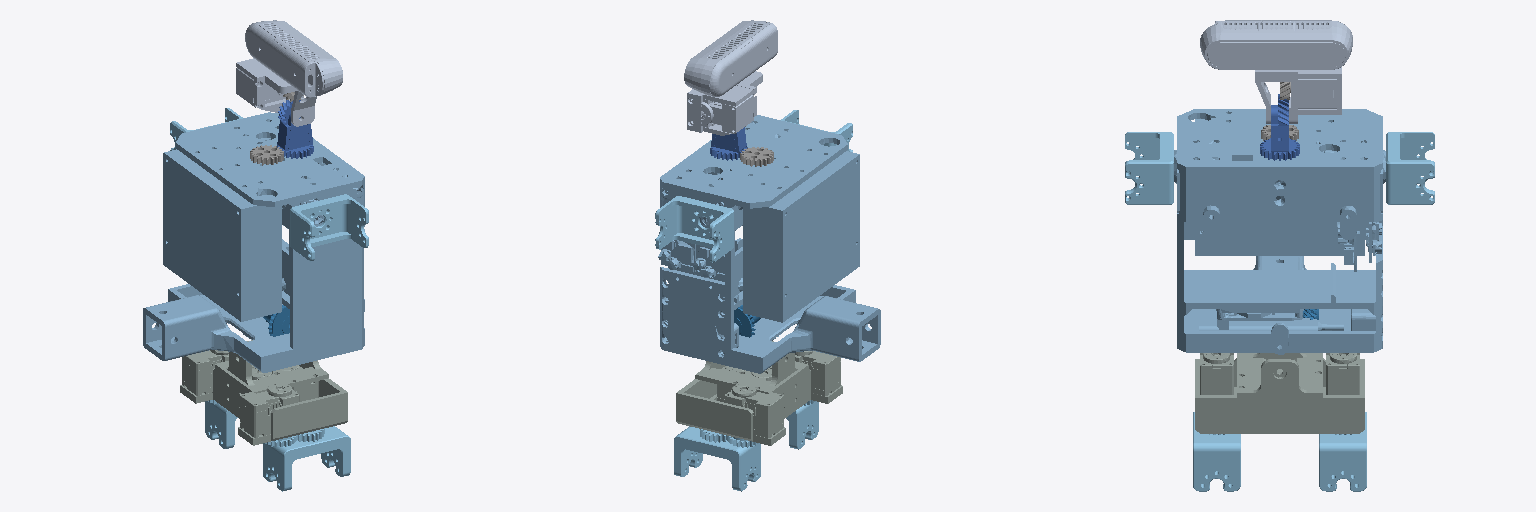
robot.urdf — toddlerbot:
<?xml version="1.0" ?><robot name="toddlerbot">  
  <link name="torso">    
    <visual>      
      <origin xyz="0 0 0" rpy="0 -0 0"/>      
      <geometry>        
        <mesh filename="package:///meshes/torso_visual.stl"/>        
      </geometry>      
      <material name="torso_material">        
        <color rgba="0.58593977560074728128 0.73200332251165178832 0.84622153029708702121 1.0"/>        
      </material>      
    </visual>    
    <collision>      
      <origin xyz="0 0 0" rpy="0 -0 0"/>      
      <geometry>        
        <mesh filename="package:///meshes/torso_collision.stl"/>        
      </geometry>      
    </collision>    
    <inertial>      
      <origin xyz="-0.0074402562279124312417 0.0025066622175970347877 0.07243445560768882463" rpy="0 0 0"/>      
      <mass value="0.58475267652546303321"/>      
      <inertia ixx="0.0016161156662577464554" ixy="-1.474745924858701948e-05" ixz="3.3560094571361662986e-07" iyy="0.0013094545225363026821" iyz="2.4218994132079873523e-05" izz="0.0011897783104580597104"/>      
    </inertial>    
  </link>  

  <link name="spur_1m_20t">    
    <visual>      
      <origin xyz="0 0 0" rpy="0 -0 0"/>      
      <geometry>        
        <mesh filename="package:///meshes/spur_1m_20t_visual.stl"/>        
      </geometry>      
      <material name="spur_1m_20t_material">        
        <color rgba="0.64705882352941179736 0.64705882352941179736 0.64705882352941179736 1.0"/>        
      </material>      
    </visual>    
    <collision>      
      <origin xyz="0 0 0" rpy="0 -0 0"/>      
      <geometry>        
        <mesh filename="package:///meshes/spur_1m_20t_collision.stl"/>        
      </geometry>      
    </collision>    
    <inertial>      
      <origin xyz="-2.9678192710719268851e-18 -7.2909235904444700427e-18 0.0033745971730663282089" rpy="0 0 0"/>      
      <mass value="0.0015534950290892286448"/>      
      <inertia ixx="4.4726508287871812856e-08" ixy="5.898867711257843534e-24" ixz="-1.4055384018007298852e-37" iyy="4.4726508287871759916e-08" iyz="-4.7306831784492834109e-38" izz="7.9558906764902019844e-08"/>      
    </inertial>    
  </link>  

  <joint name="neck_yaw_drive" type="revolute">    
    <origin xyz="-0.0050000000000043915566 2.1780059937422389857e-15 0.12148651076282247774" rpy="-4.6722658561527960149e-15 -3.0241828739332580702e-14 3.0478935990547233347e-14"/>    
    <parent link="torso"/>    
    <child link="spur_1m_20t"/>    
    <axis xyz="0 0 1"/>    
    <limit effort="1" velocity="20" lower="-2.2689280275926284602" upper="2.2689280275926284602"/>    
    <joint_properties friction="0.0"/>    
  </joint>  

  <link name="neck_yaw_link">    
    <visual>      
      <origin xyz="0 0 0" rpy="0 -0 0"/>      
      <geometry>        
        <mesh filename="package:///meshes/neck_yaw_link_visual.stl"/>        
      </geometry>      
      <material name="neck_yaw_link_material">        
        <color rgba="0.33636252417476658616 0.48680769190259876034 0.74976123534949790095 1.0"/>        
      </material>      
    </visual>    
    <collision>      
      <origin xyz="0 0 0" rpy="0 -0 0"/>      
      <geometry>        
        <mesh filename="package:///meshes/neck_yaw_link_collision.stl"/>        
      </geometry>      
    </collision>    
    <inertial>      
      <origin xyz="2.7291286460607713451e-05 -0.00019798992283530673832 0.011527412037194864278" rpy="0 0 0"/>      
      <mass value="0.0085168305947458285143"/>      
      <inertia ixx="1.0407116999274153436e-06" ixy="2.421015046618271679e-11" ixz="-4.7246803216679303407e-10" iyy="1.1240009954110310649e-06" iyz="3.0834841754636015976e-08" izz="3.1587565167291864821e-07"/>      
    </inertial>    
  </link>  

  <link name="neck_pitch_link">    
    <visual>      
      <origin xyz="0 0 0" rpy="0 -0 0"/>      
      <geometry>        
        <mesh filename="package:///meshes/neck_pitch_link_visual.stl"/>        
      </geometry>      
      <material name="neck_pitch_link_material">        
        <color rgba="0.74911126277760042846 0.80002799398726853752 0.87441258869524285391 1.0"/>        
      </material>      
    </visual>    
    <collision>      
      <origin xyz="0 0 0" rpy="0 -0 0"/>      
      <geometry>        
        <mesh filename="package:///meshes/neck_pitch_link_collision.stl"/>        
      </geometry>      
    </collision>    
    <inertial>      
      <origin xyz="-0.003437049761572200015 0.032876793988991251383 -0.00036476492134670401466" rpy="0 0 0"/>      
      <mass value="0.11211553874797881847"/>      
      <inertia ixx="7.70157554598498086e-05" ixy="-2.1757968319829864274e-06" ixz="-2.8732209413525655209e-06" iyy="6.3502636688154214277e-05" iyz="-1.2492352737635124786e-05" izz="2.8610002383976241419e-05"/>      
    </inertial>    
  </link>  

  <link name="spur_gear_(13_teeth)">    
    <visual>      
      <origin xyz="0 0 0" rpy="0 -0 0"/>      
      <geometry>        
        <mesh filename="package:///meshes/spur_gear_(13_teeth)_visual.stl"/>        
      </geometry>      
      <material name="spur_gear_(13_teeth)_material">        
        <color rgba="0.64705882352941179736 0.64705882352941179736 0.64705882352941179736 1.0"/>        
      </material>      
    </visual>    
    <collision>      
      <origin xyz="0 0 0" rpy="0 -0 0"/>      
      <geometry>        
        <mesh filename="package:///meshes/spur_gear_(13_teeth)_collision.stl"/>        
      </geometry>      
    </collision>    
    <inertial>      
      <origin xyz="9.1521557942323573101e-10 -5.4872578735152555475e-10 0.0092751511485596373902" rpy="0 0 0"/>      
      <mass value="0.00081469437497230865874"/>      
      <inertia ixx="2.0244841463618384181e-08" ixy="2.9781775006960639087e-15" ixz="-8.2976066070018727639e-15" iyy="2.0244839778533685891e-08" iyz="1.3142117784831662071e-15" izz="1.8905472907863310999e-08"/>      
    </inertial>    
  </link>  

  <joint name="neck_pitch_drive" type="revolute">    
    <origin xyz="-1.7971735211119721498e-15 0.015649999999999192335 -0.008799999999996657718" rpy="-9.1684649781985877855e-16 7.2823649231784177849e-17 -1.5707963267948912289"/>    
    <parent link="neck_pitch_link"/>    
    <child link="spur_gear_(13_teeth)"/>    
    <axis xyz="0 0 1"/>    
    <limit effort="1" velocity="20" lower="-1.4279966607226330932" upper="1.4279966607226330932"/>    
    <joint_properties friction="0.0"/>    
  </joint>  

  <joint name="neck_pitch_driven" type="revolute">    
    <origin xyz="3.7499998592482874926e-10 -0.0051500000614754029571 0.027499999999999941158" rpy="1.570796326794896336 8.6610484296623782615e-16 3.1415926535897926719"/>    
    <parent link="neck_yaw_link"/>    
    <child link="neck_pitch_link"/>    
    <axis xyz="0 0 1"/>    
    <limit effort="1" velocity="20" lower="-1.570796326794896558" upper="1.570796326794896558"/>    
    <joint_properties friction="0.0"/>    
  </joint>  

  <joint name="neck_yaw_driven" type="revolute">    
    <origin xyz="0.015999999999998633371 3.2287696509065600056e-15 0.12248651076282091044" rpy="2.3436576345318096491e-14 3.3282183470283369239e-14 -3.1415926535897926719"/>    
    <parent link="torso"/>    
    <child link="neck_yaw_link"/>    
    <axis xyz="0 0 1"/>    
    <limit effort="1" velocity="20" lower="-3.141592653589793116" upper="3.141592653589793116"/>    
    <joint_properties friction="0.0"/>    
  </joint>  

  <link name="waist_gears">    
    <visual>      
      <origin xyz="0 0 0" rpy="0 -0 0"/>      
      <geometry>        
        <mesh filename="package:///meshes/waist_gears_visual.stl"/>        
      </geometry>      
      <material name="waist_gears_material">        
        <color rgba="0.2632766275256509525 0.51746399844275281499 0.70128653634567073016 1.0"/>        
      </material>      
    </visual>    
    <collision>      
      <origin xyz="0 0 0" rpy="0 -0 0"/>      
      <geometry>        
        <mesh filename="package:///meshes/waist_gears_collision.stl"/>        
      </geometry>      
    </collision>    
    <inertial>      
      <origin xyz="-2.968876492998927051e-07 5.6464343502689201109e-08 -0.012588230079602458905" rpy="0 0 0"/>      
      <mass value="0.025809950030454161668"/>      
      <inertia ixx="1.5121316248348977609e-06" ixy="1.8766601005581730155e-11" ixz="4.0584247103936108173e-10" iyy="7.2540386700465116487e-06" iyz="3.1280091563205133452e-12" izz="6.9379699728509380057e-06"/>      
    </inertial>    
  </link>  

  <link name="waist_link">    
    <visual>      
      <origin xyz="0 0 0" rpy="0 -0 0"/>      
      <geometry>        
        <mesh filename="package:///meshes/waist_link_visual.stl"/>        
      </geometry>      
      <material name="waist_link_material">        
        <color rgba="0.6341178154858730931 0.68176322249315746138 0.66892316089122350053 1.0"/>        
      </material>      
    </visual>    
    <collision>      
      <origin xyz="0 0 0" rpy="0 -0 0"/>      
      <geometry>        
        <mesh filename="package:///meshes/waist_link_collision.stl"/>        
      </geometry>      
    </collision>    
    <inertial>      
      <origin xyz="-9.0347036015879724889e-07 0.026095270919262961162 -0.030130047301118945829" rpy="0 0 0"/>      
      <mass value="0.16767948617484731977"/>      
      <inertia ixx="6.9102611966451489025e-05" ixy="-5.9672595151003787181e-10" ixz="-3.6786883474394307472e-06" iyy="0.00020080820223840280172" iyz="-3.5903589490715789653e-06" izz="0.00015797022372487427269"/>      
    </inertial>    
  </link>  

  <link name="spur_gear_19_teeth">    
    <visual>      
      <origin xyz="0 0 0" rpy="0 -0 0"/>      
      <geometry>        
        <mesh filename="package:///meshes/spur_gear_19_teeth_visual.stl"/>        
      </geometry>      
      <material name="spur_gear_19_teeth_material">        
        <color rgba="0.61568627450980395466 0.81176470588235294379 0.92941176470588238168 1.0"/>        
      </material>      
    </visual>    
    <collision>      
      <origin xyz="0 0 0" rpy="0 -0 0"/>      
      <geometry>        
        <mesh filename="package:///meshes/spur_gear_19_teeth_collision.stl"/>        
      </geometry>      
    </collision>    
    <inertial>      
      <origin xyz="-4.9968063137826185009e-09 -7.9242214131433856263e-11 0.0045295192537419867035" rpy="0 0 0"/>      
      <mass value="0.0010993711450650535313"/>      
      <inertia ixx="2.9215018435433078735e-08" ixy="2.5903313826161381487e-16" ixz="8.5599808499104664123e-15" iyy="2.9215021540034071703e-08" iyz="1.1526881384966657422e-16" izz="4.5709977027671355031e-08"/>      
    </inertial>    
  </link>  

  <joint name="left_hip_yaw_drive" type="revolute">    
    <origin xyz="-0.036999999999998312017 0.037100000000006030931 -0.0395000000000006804" rpy="-1.5707963267949798247 -4.6304776107371661452e-13 -3.868919074001414487e-13"/>    
    <parent link="waist_link"/>    
    <child link="spur_gear_19_teeth"/>    
    <axis xyz="0 0 1"/>    
    <limit effort="1" velocity="20" lower="-1.4211966766239538806" upper="1.4211966766239538806"/>    
    <joint_properties friction="0.0"/>    
  </joint>  

  <link name="spur_gear_21_teeth">    
    <visual>      
      <origin xyz="0 0 0" rpy="0 -0 0"/>      
      <geometry>        
        <mesh filename="package:///meshes/spur_gear_21_teeth_visual.stl"/>        
      </geometry>      
      <material name="spur_gear_21_teeth_material">        
        <color rgba="0.61568627450980395466 0.81176470588235294379 0.92941176470588238168 1.0"/>        
      </material>      
    </visual>    
    <collision>      
      <origin xyz="0 0 0" rpy="0 -0 0"/>      
      <geometry>        
        <mesh filename="package:///meshes/spur_gear_21_teeth_collision.stl"/>        
      </geometry>      
    </collision>    
    <inertial>      
      <origin xyz="-4.7814841798942682476e-10 -1.2610156409555453111e-12 0.0024944618616143370698" rpy="0 0 0"/>      
      <mass value="0.0010063046528317974842"/>      
      <inertia ixx="3.1842855421068475048e-08" ixy="2.2030744720874237327e-39" ixz="-4.4935557363611089879e-38" iyy="3.1842855426953779079e-08" iyz="-6.7412745706619689465e-38" izz="5.9529380586728028132e-08"/>      
    </inertial>    
  </link>  

  <link name="left_leg_xm430">    
    <visual>      
      <origin xyz="0 0 0" rpy="0 -0 0"/>      
      <geometry>        
        <mesh filename="package:///meshes/left_leg_xm430_visual.stl"/>        
      </geometry>      
      <material name="left_leg_xm430_material">        
        <color rgba="0.61568627450980395466 0.81176470588235294379 0.92941176470588238168 1.0"/>        
      </material>      
    </visual>    
    <collision>      
      <origin xyz="0 0 0" rpy="0 -0 0"/>      
      <geometry>        
        <mesh filename="package:///meshes/left_leg_xm430_collision.stl"/>        
      </geometry>      
    </collision>    
    <inertial>      
      <origin xyz="-9.1960418512498486936e-19 -5.5625627936851733319e-19 -0.0098390489054829052135" rpy="0 0 0"/>      
      <mass value="0.017999999999999995171"/>      
      <inertia ixx="2.638503389144252815e-06" ixy="-4.2497782781222058568e-36" ixz="-1.8781255597560568713e-37" iyy="7.6596731957046856464e-06" iyz="1.1749924264563529118e-35" izz="7.7220708070894735956e-06"/>      
    </inertial>    
  </link>  

  <joint name="left_leg_fixed" type="fixed">    
    <origin xyz="-4.336808689942017736e-19 0 0.004999999999999997502" rpy="3.1415926535897851224 -1.1045608006607374766e-30 -4.2552910532817472121e-31"/>    
    <parent link="spur_gear_21_teeth"/>    
    <child link="left_leg_xm430"/>    
    <axis xyz="0 0 1"/>    
    <limit effort="1" velocity="20"/>    
    <joint_properties friction="0.0"/>    
  </joint>  

  <joint name="left_hip_yaw_driven" type="revolute">    
    <origin xyz="-0.037000000000000005107 0.041099999999999997646 -0.019499999999999979156" rpy="-1.5707963267948923392 -1.5707963267948932273 0"/>    
    <parent link="waist_link"/>    
    <child link="spur_gear_21_teeth"/>    
    <axis xyz="0 0 1"/>    
    <limit effort="1" velocity="20" lower="-1.570796326794896558" upper="1.570796326794896558"/>    
    <joint_properties friction="0.0"/>    
  </joint>  

  <link name="spur_gear_19_teeth_2">    
    <visual>      
      <origin xyz="0 0 0" rpy="0 -0 0"/>      
      <geometry>        
        <mesh filename="package:///meshes/spur_gear_19_teeth_2_visual.stl"/>        
      </geometry>      
      <material name="spur_gear_19_teeth_2_material">        
        <color rgba="0.61568627450980395466 0.81176470588235294379 0.92941176470588238168 1.0"/>        
      </material>      
    </visual>    
    <collision>      
      <origin xyz="0 0 0" rpy="0 -0 0"/>      
      <geometry>        
        <mesh filename="package:///meshes/spur_gear_19_teeth_2_collision.stl"/>        
      </geometry>      
    </collision>    
    <inertial>      
      <origin xyz="-4.996806306843724597e-09 -7.9242214131433752865e-11 0.0045295192537419936424" rpy="0 0 0"/>      
      <mass value="0.0010993711450650535313"/>      
      <inertia ixx="2.9215018435433078735e-08" ixy="2.5903313731374078717e-16" ixz="8.5599808499104664123e-15" iyy="2.9215021540034058468e-08" iyz="1.15268813849666377e-16" izz="4.5709977027671355031e-08"/>      
    </inertial>    
  </link>  

  <joint name="right_hip_yaw_drive" type="revolute">    
    <origin xyz="0.037000000000001607992 0.037100000000003560685 -0.039500000000000486111" rpy="-1.5707963267949798247 -4.6304330256338374643e-13 -3.8689190740014134773e-13"/>    
    <parent link="waist_link"/>    
    <child link="spur_gear_19_teeth_2"/>    
    <axis xyz="0 0 1"/>    
    <limit effort="1" velocity="20" lower="-1.4211966766239538806" upper="1.4211966766239538806"/>    
    <joint_properties friction="0.0"/>    
  </joint>  

  <link name="spur_gear_21_teeth_2">    
    <visual>      
      <origin xyz="0 0 0" rpy="0 -0 0"/>      
      <geometry>        
        <mesh filename="package:///meshes/spur_gear_21_teeth_2_visual.stl"/>        
      </geometry>      
      <material name="spur_gear_21_teeth_2_material">        
        <color rgba="0.61568627450980395466 0.81176470588235294379 0.92941176470588238168 1.0"/>        
      </material>      
    </visual>    
    <collision>      
      <origin xyz="0 0 0" rpy="0 -0 0"/>      
      <geometry>        
        <mesh filename="package:///meshes/spur_gear_21_teeth_2_collision.stl"/>        
      </geometry>      
    </collision>    
    <inertial>      
      <origin xyz="-4.7814841755574595577e-10 1.2610156409555453111e-12 0.002505538138385667371" rpy="0 0 0"/>      
      <mass value="0.0010063046528317974842"/>      
      <inertia ixx="3.1842855421068475048e-08" ixy="-3.5918388336506837553e-39" ixz="-6.6630596444937123218e-38" iyy="3.1842855426953779079e-08" iyz="9.0125987776356224395e-38" izz="5.9529380586728028132e-08"/>      
    </inertial>    
  </link>  

  <link name="right_leg_xm430">    
    <visual>      
      <origin xyz="0 0 0" rpy="0 -0 0"/>      
      <geometry>        
        <mesh filename="package:///meshes/right_leg_xm430_visual.stl"/>        
      </geometry>      
      <material name="right_leg_xm430_material">        
        <color rgba="0.61568627450980395466 0.81176470588235294379 0.92941176470588238168 1.0"/>        
      </material>      
    </visual>    
    <collision>      
      <origin xyz="0 0 0" rpy="0 -0 0"/>      
      <geometry>        
        <mesh filename="package:///meshes/right_leg_xm430_collision.stl"/>        
      </geometry>      
    </collision>    
    <inertial>      
      <origin xyz="-9.196041851249839064e-19 -5.5625627936855642957e-19 -0.0098390489054829121524" rpy="0 0 0"/>      
      <mass value="0.017999999999999995171"/>      
      <inertia ixx="2.638503389144252815e-06" ixy="-2.0212297228868841463e-36" ixz="3.5190567116450991312e-37" iyy="7.6596731957046856464e-06" iyz="1.3791701339531919259e-35" izz="7.7220708070894735956e-06"/>      
    </inertial>    
  </link>  

  <joint name="right_leg_fixed" type="fixed">    
    <origin xyz="0 0 0.004999999999999997502" rpy="-3.1415926535897797933 -7.5781949123851955204e-18 -3.340101530512157196e-16"/>    
    <parent link="spur_gear_21_teeth_2"/>    
    <child link="right_leg_xm430"/>    
    <axis xyz="0 0 1"/>    
    <limit effort="1" velocity="20"/>    
    <joint_properties friction="0.0"/>    
  </joint>  

  <joint name="right_hip_yaw_driven" type="revolute">    
    <origin xyz="0.037000000000000005107 0.041099999999999997646 -0.019499999999999986094" rpy="-1.5707963267949132113 -1.5707963267948950037 0"/>    
    <parent link="waist_link"/>    
    <child link="spur_gear_21_teeth_2"/>    
    <axis xyz="0 0 1"/>    
    <limit effort="1" velocity="20" lower="-1.570796326794896558" upper="1.570796326794896558"/>    
    <joint_properties friction="0.0"/>    
  </joint>  

  <joint name="waist_roll" type="revolute">    
    <origin xyz="-0.022707865260692145642 -3.2904492237211951884e-18 -0.014000000000000064476" rpy="-1.5707963267949034414 -6.2265052416776424318e-15 1.5707963267948885644"/>    
    <parent link="waist_gears"/>    
    <child link="waist_link"/>    
    <axis xyz="0 0 1"/>    
    <limit effort="1" velocity="20" lower="-0.52359877559829881566" upper="0.52359877559829881566"/>    
    <joint_properties friction="0.0"/>    
  </joint>  

  <joint name="waist_yaw" type="revolute">    
    <origin xyz="0 -4.3140830754274083108e-32 0" rpy="9.7872132923950749268e-15 4.0244775309734053704e-14 -3.1415926535897926719"/>    
    <parent link="torso"/>    
    <child link="waist_gears"/>    
    <axis xyz="0 0 1"/>    
    <limit effort="1" velocity="20" lower="-1.570796326794896558" upper="1.570796326794896558"/>    
    <joint_properties friction="0.0"/>    
  </joint>  

  <link name="left_arm_hand">    
    <visual>      
      <origin xyz="0 0 0" rpy="0 -0 0"/>      
      <geometry>        
        <mesh filename="package:///meshes/left_arm_hand_visual.stl"/>        
      </geometry>      
      <material name="left_arm_hand_material">        
        <color rgba="0.61568627450980395466 0.81176470588235294379 0.92941176470588227065 1.0"/>        
      </material>      
    </visual>    
    <collision>      
      <origin xyz="0 0 0" rpy="0 -0 0"/>      
      <geometry>        
        <mesh filename="package:///meshes/left_arm_hand_collision.stl"/>        
      </geometry>      
    </collision>    
    <inertial>      
      <origin xyz="5.8254249521811582877e-11 -5.1264642561120958965e-05 0.008244078812709491888" rpy="0 0 0"/>      
      <mass value="0.0085999999999999965361"/>      
      <inertia ixx="1.2272887040545793991e-06" ixy="-2.1429944230882620695e-14" ixz="-8.5847199149485390626e-15" iyy="2.9107306060364624323e-06" iyz="7.4623841398183150184e-09" izz="3.0803135950773496163e-06"/>      
    </inertial>    
  </link>  

  <joint name="left_sho_pitch" type="revolute">    
    <origin xyz="-0.0030000000000067082381 0.062000000000004690248 0.10423651076282114403" rpy="-1.5707963267949092145 -3.6755753074147472872e-14 3.4347079465292731775e-14"/>    
    <parent link="torso"/>    
    <child link="left_arm_hand"/>    
    <axis xyz="0 0 1"/>    
    <limit effort="1" velocity="20" lower="-1.570796326794896558" upper="1.570796326794896558"/>    
    <joint_properties friction="0.0"/>    
  </joint>  

  <link name="right_arm_hand">    
    <visual>      
      <origin xyz="0 0 0" rpy="0 -0 0"/>      
      <geometry>        
        <mesh filename="package:///meshes/right_arm_hand_visual.stl"/>        
      </geometry>      
      <material name="right_arm_hand_material">        
        <color rgba="0.61568627450980395466 0.81176470588235294379 0.92941176470588227065 1.0"/>        
      </material>      
    </visual>    
    <collision>      
      <origin xyz="0 0 0" rpy="0 -0 0"/>      
      <geometry>        
        <mesh filename="package:///meshes/right_arm_hand_collision.stl"/>        
      </geometry>      
    </collision>    
    <inertial>      
      <origin xyz="5.8254249521811582877e-11 -5.1264642561120958965e-05 0.0082440788127094849491" rpy="0 0 0"/>      
      <mass value="0.0085999999999999965361"/>      
      <inertia ixx="1.2272887040545793991e-06" ixy="-2.1429944230882620695e-14" ixz="-8.5847199149485390626e-15" iyy="2.9107306060364624323e-06" iyz="7.4623841398183150184e-09" izz="3.0803135950773496163e-06"/>      
    </inertial>    
  </link>  

  <joint name="right_sho_pitch" type="revolute">    
    <origin xyz="-0.0030000000000024208691 -0.061999999999999777511 0.10423651076282194894" rpy="-1.5707963267948847896 2.9071281258321823756e-14 -3.1415926535897589211"/>    
    <parent link="torso"/>    
    <child link="right_arm_hand"/>    
    <axis xyz="0 0 1"/>    
    <limit effort="1" velocity="20" lower="-1.570796326794896558" upper="1.570796326794896558"/>    
    <joint_properties friction="0.0"/>    
  </joint>  


</robot>

--- Render facts (derived) ---
3 views of the same robot in one strip: view 1: azimuth 30°, elevation 25°; view 2: azimuth 150°, elevation 25°; view 3: azimuth 270°, elevation 25° (orthographic).
Model toddlerbot with 15 links and 14 joints (12 revolute, 2 fixed), rooted at torso, posed every joint at zero.
Visible links, largest first — view 1: torso, waist_link, neck_pitch_link, right_arm_hand, right_leg_xm430, neck_yaw_link, left_leg_xm430, spur_1m_20t, waist_gears; view 2: torso, waist_link, neck_pitch_link, left_arm_hand, left_leg_xm430, right_leg_xm430, neck_yaw_link, spur_1m_20t; view 3: torso, waist_link, neck_pitch_link, left_arm_hand, right_arm_hand, right_leg_xm430, left_leg_xm430, neck_yaw_link.
Link boxes in pixels (x1,y1,x2,y2): torso: [143, 112, 364, 372]; waist_link: [180, 340, 347, 445]; neck_pitch_link: [236, 20, 342, 126]; right_arm_hand: [290, 194, 368, 261]; right_leg_xm430: [263, 426, 350, 491]; neck_yaw_link: [277, 100, 313, 158]; left_leg_xm430: [205, 401, 237, 448]; spur_1m_20t: [250, 145, 283, 165]; waist_gears: [263, 305, 289, 336]; torso: [658, 115, 880, 373]; waist_link: [676, 341, 842, 445]; neck_pitch_link: [684, 20, 777, 135]; left_arm_hand: [655, 196, 733, 262]; left_leg_xm430: [674, 426, 760, 491]; right_leg_xm430: [786, 401, 818, 449]; neck_yaw_link: [710, 127, 747, 160]; spur_1m_20t: [740, 147, 773, 166]; torso: [1174, 109, 1385, 354]; waist_link: [1195, 353, 1364, 433]; neck_pitch_link: [1200, 20, 1352, 123]; left_arm_hand: [1386, 132, 1434, 204]; right_arm_hand: [1125, 132, 1173, 204]; right_leg_xm430: [1193, 412, 1240, 491]; left_leg_xm430: [1319, 412, 1366, 491]; neck_yaw_link: [1260, 94, 1299, 160].
Size in the robot's own frame: 0.131 by 0.182 by 0.2938 metres.
Meshes: 15 distinct files referenced, 15 mesh visuals loaded (15 binary STL).